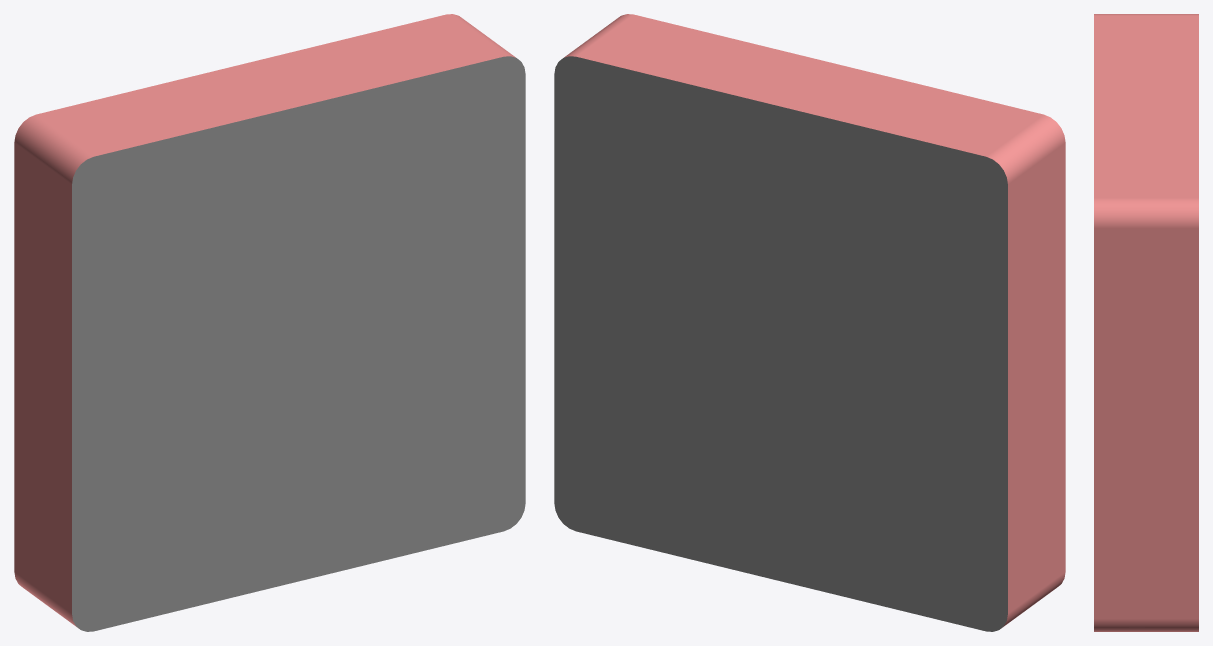
Rendered from enemy_stack.glb.
3 renders of one model, left to right at view 1: azimuth 30°, elevation 25°; view 2: azimuth 150°, elevation 25°; view 3: azimuth 270°, elevation 25°, orthographic. The views are drawn at different scales.
Bounding box in the file's own units: 3 × 3 × 0.6601.
